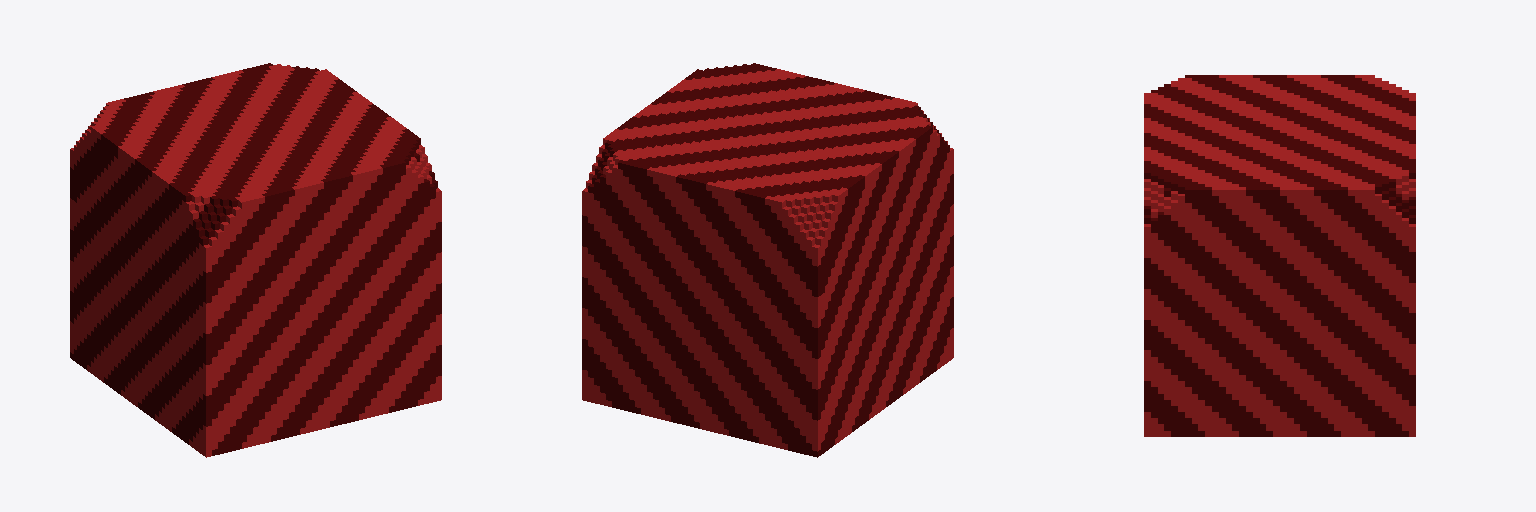
3 renders of one model, left to right at view 1: azimuth 30°, elevation 25°; view 2: azimuth 150°, elevation 25°; view 3: azimuth 270°, elevation 25°, orthographic.
Visible parts, largest first — view 1: object 1; view 2: object 1; view 3: object 1.
Part boxes in pixels (bbox=[...]): object 1: bbox=[70, 63, 441, 457]; object 1: bbox=[582, 63, 953, 457]; object 1: bbox=[1144, 75, 1415, 436].
Bounding box in the file's own units: 4 × 4 × 4.
1 materials, 1 textured.